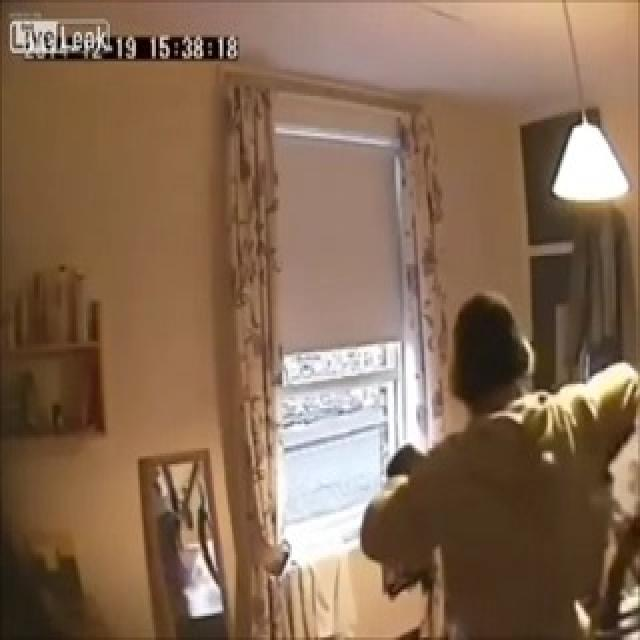thief: (420, 261, 547, 461)
